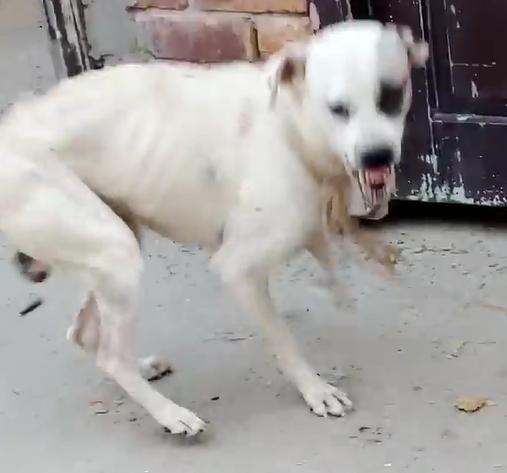dog_aggressive: (0, 6, 453, 459)
